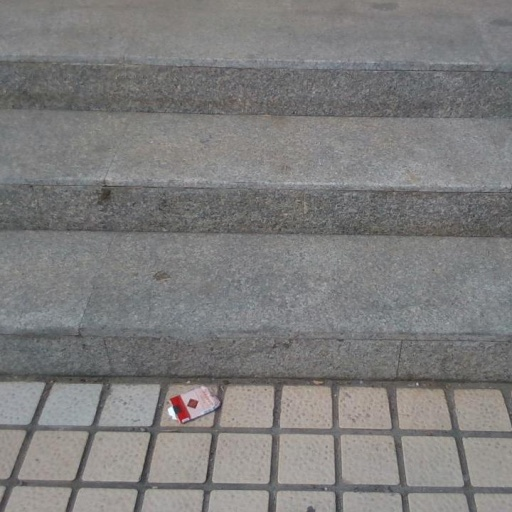Stairs: (0, 0, 512, 380)
